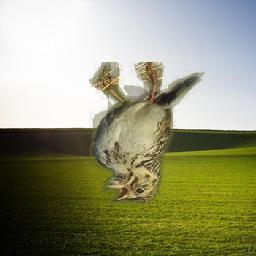Sparrow: (89, 63, 205, 206)
